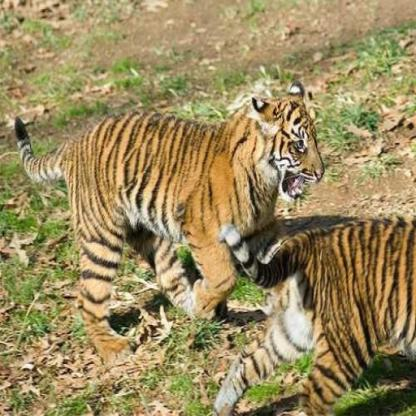Tiger: (0, 70, 349, 339), (215, 213, 415, 413)
